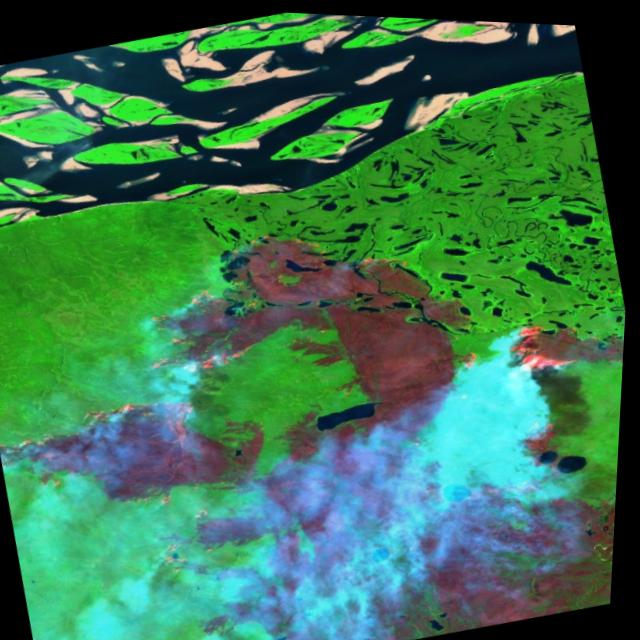fire: (0, 375, 233, 541), (474, 297, 627, 485), (130, 270, 279, 389), (138, 492, 259, 590)
